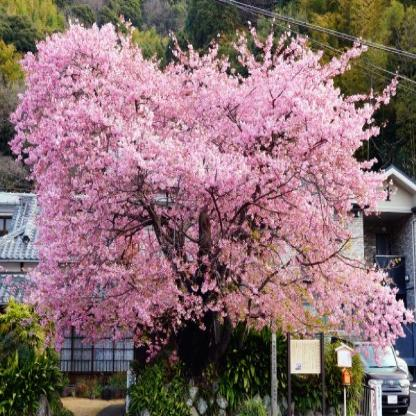KawazuSakura: (7, 13, 401, 378)
